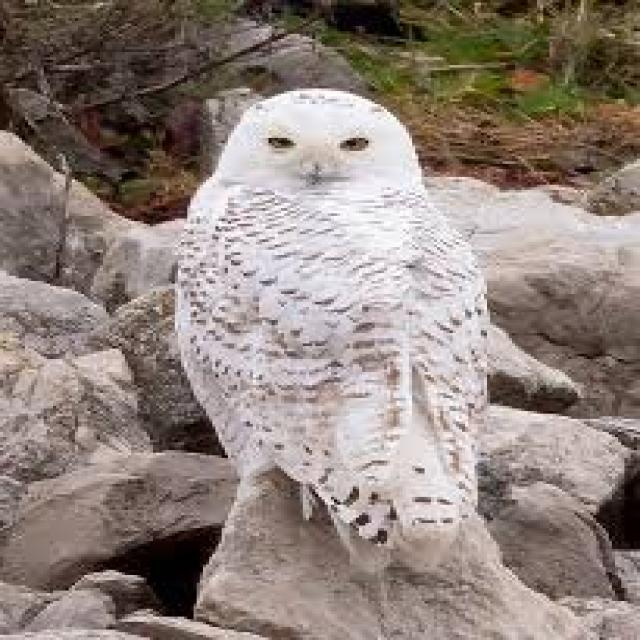Owl: (172, 87, 503, 568)
